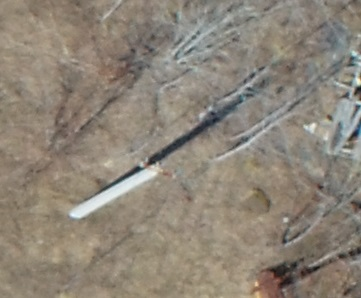opora: (67, 148, 179, 222)
